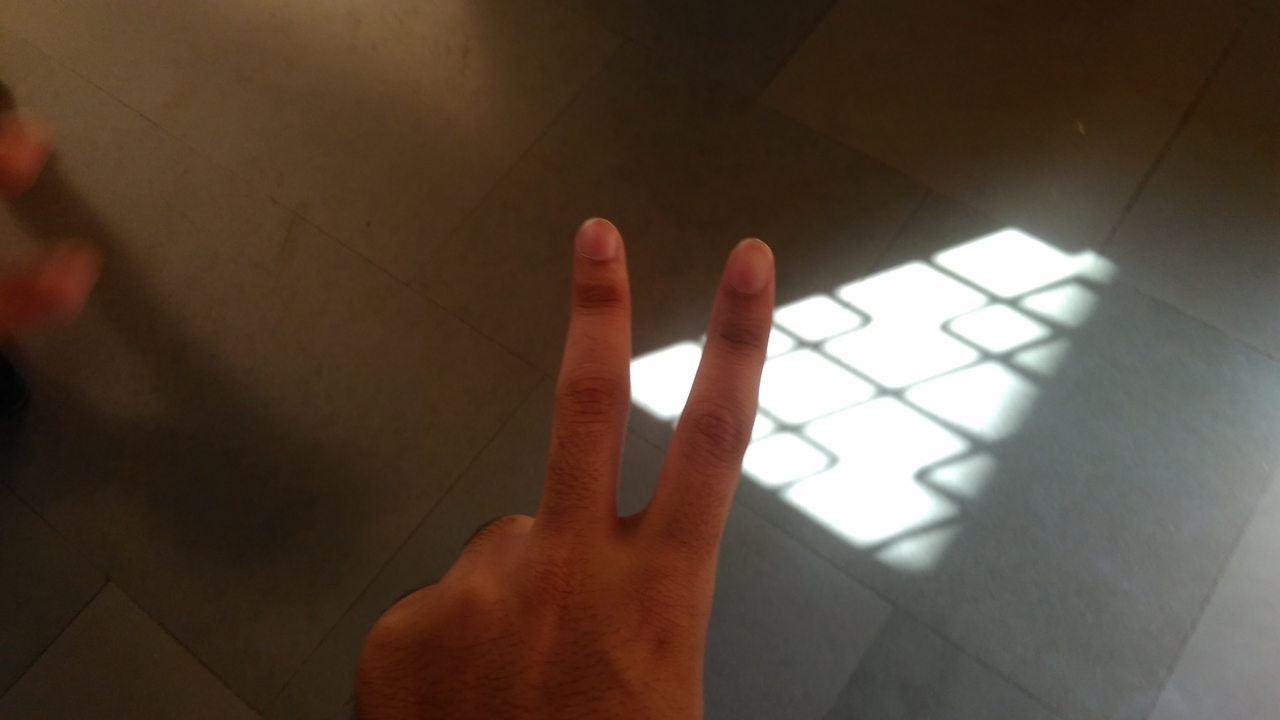fingertip: (718, 232, 780, 298), (568, 212, 628, 274)
